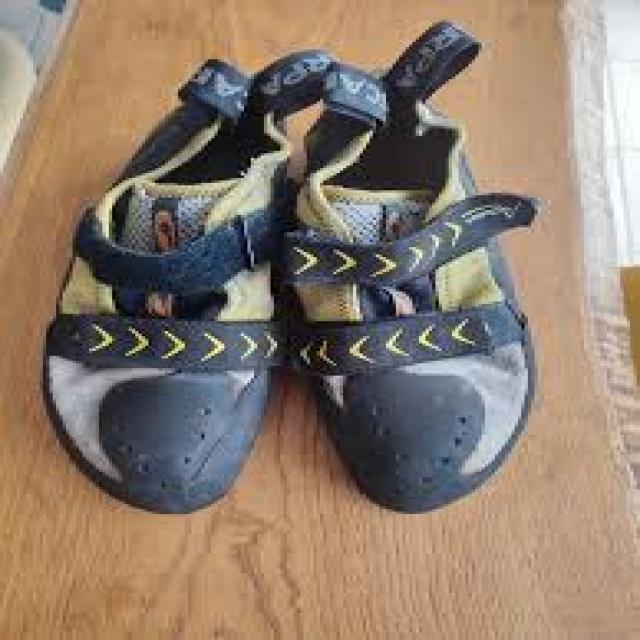climbing-shoes: (302, 22, 541, 514), (39, 53, 279, 514)
